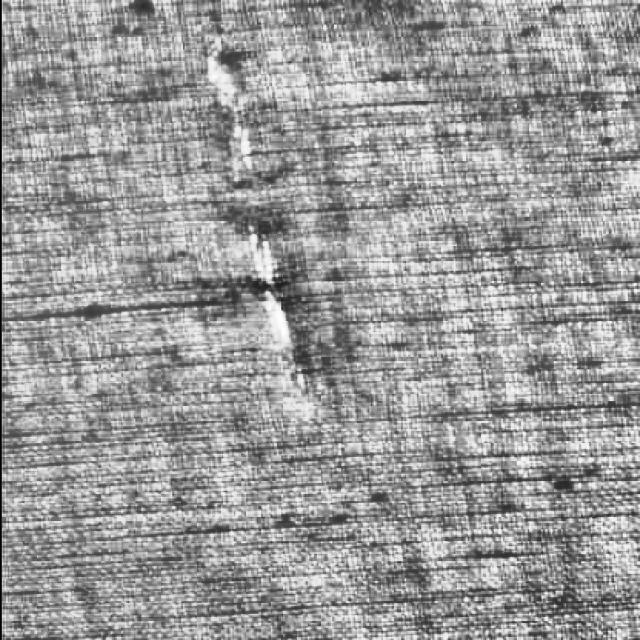thread_error: (185, 21, 327, 398)
